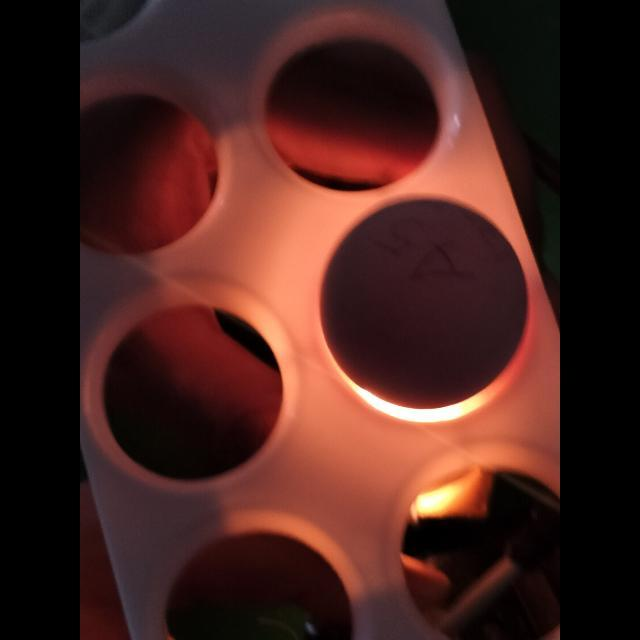Fertile: (323, 196, 532, 404)
